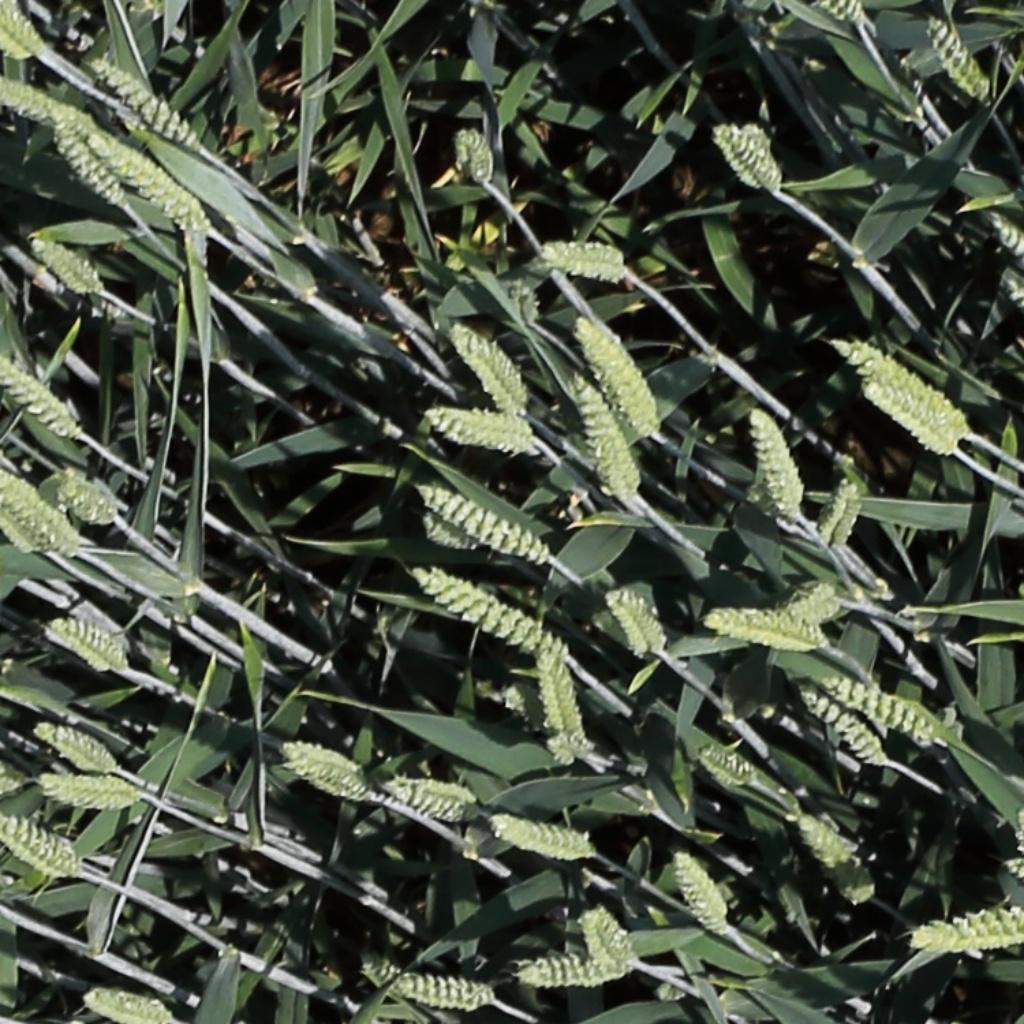0-0: (415, 569, 570, 660), (92, 128, 210, 229), (90, 53, 203, 151), (573, 312, 662, 434), (834, 337, 963, 420), (421, 486, 550, 563), (573, 367, 638, 502), (450, 318, 531, 416), (827, 677, 950, 741), (801, 684, 890, 771), (798, 813, 879, 905), (0, 344, 79, 435), (922, 9, 996, 106), (49, 116, 126, 208), (708, 605, 825, 664), (868, 380, 958, 454), (750, 402, 806, 517), (0, 465, 77, 547), (671, 846, 735, 939), (425, 409, 543, 458), (916, 894, 1024, 946), (543, 245, 643, 296), (715, 120, 785, 192), (28, 229, 102, 296), (278, 732, 358, 793), (0, 816, 76, 879), (0, 70, 86, 125), (606, 585, 667, 659), (46, 619, 129, 671), (490, 817, 595, 858), (34, 723, 117, 774), (548, 652, 589, 748), (33, 770, 140, 806), (385, 779, 472, 819), (820, 475, 865, 552), (587, 903, 637, 972), (390, 977, 494, 1003), (83, 991, 169, 1022), (55, 479, 117, 522), (458, 120, 495, 187), (520, 963, 632, 984), (787, 584, 842, 625), (700, 748, 759, 786), (424, 512, 481, 551), (0, 1, 38, 58), (509, 270, 542, 333), (827, 0, 869, 27)
